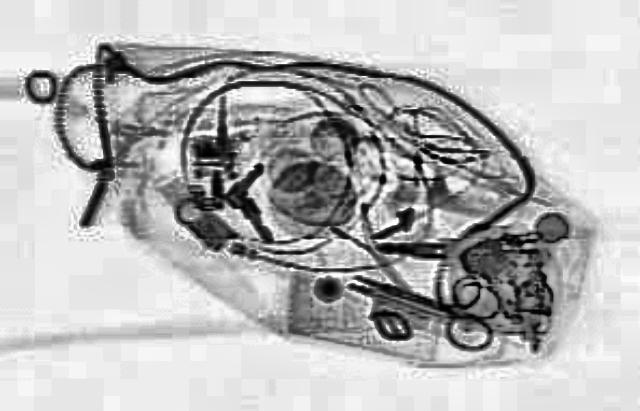Scissors: (326, 251, 526, 351)
